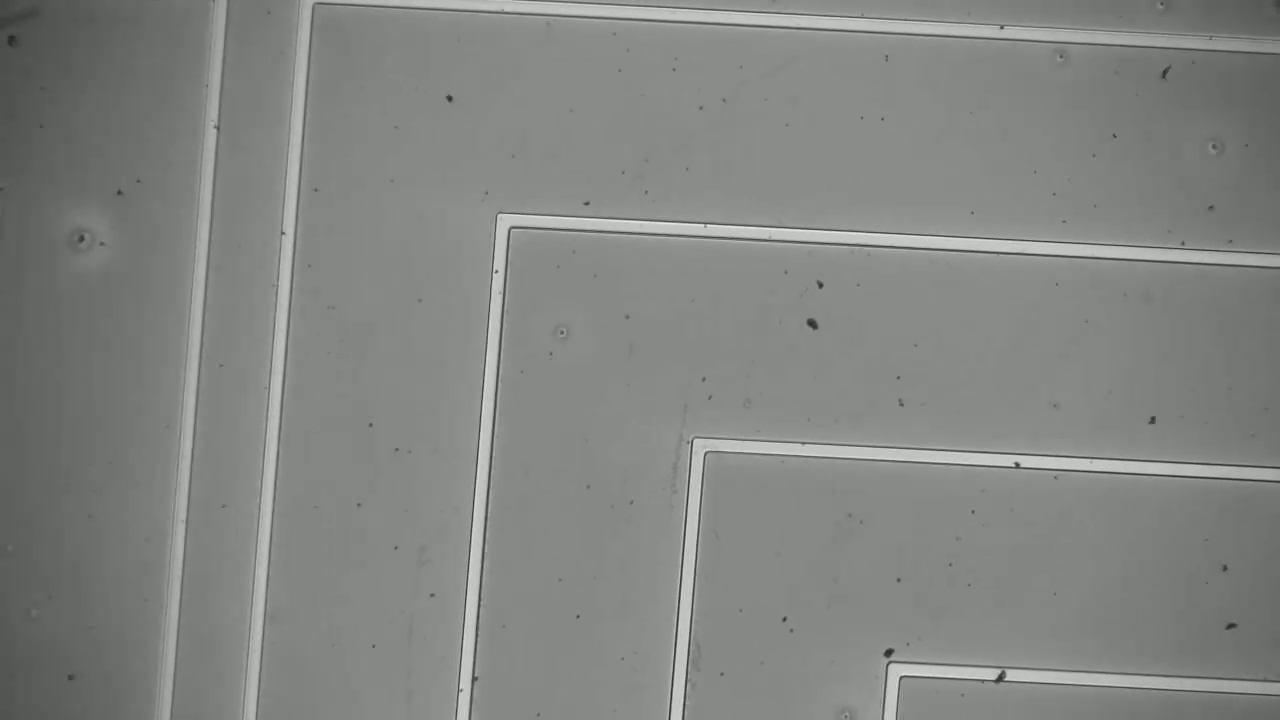stains_enbedded: (988, 658, 1014, 692)
